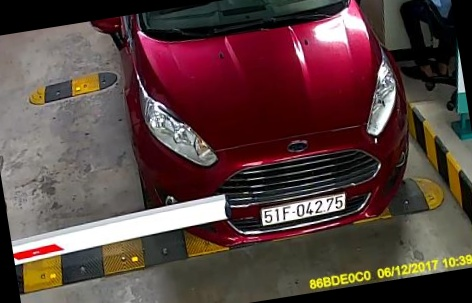plate: (242, 191, 353, 227)
